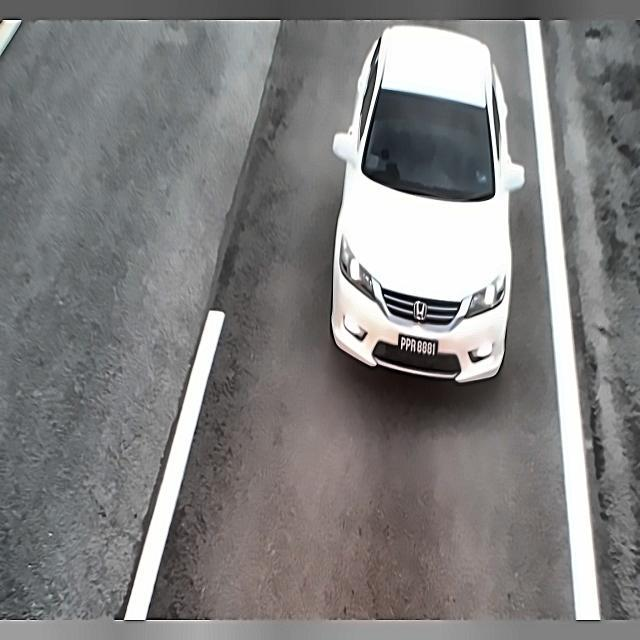car: (393, 327, 447, 369)
